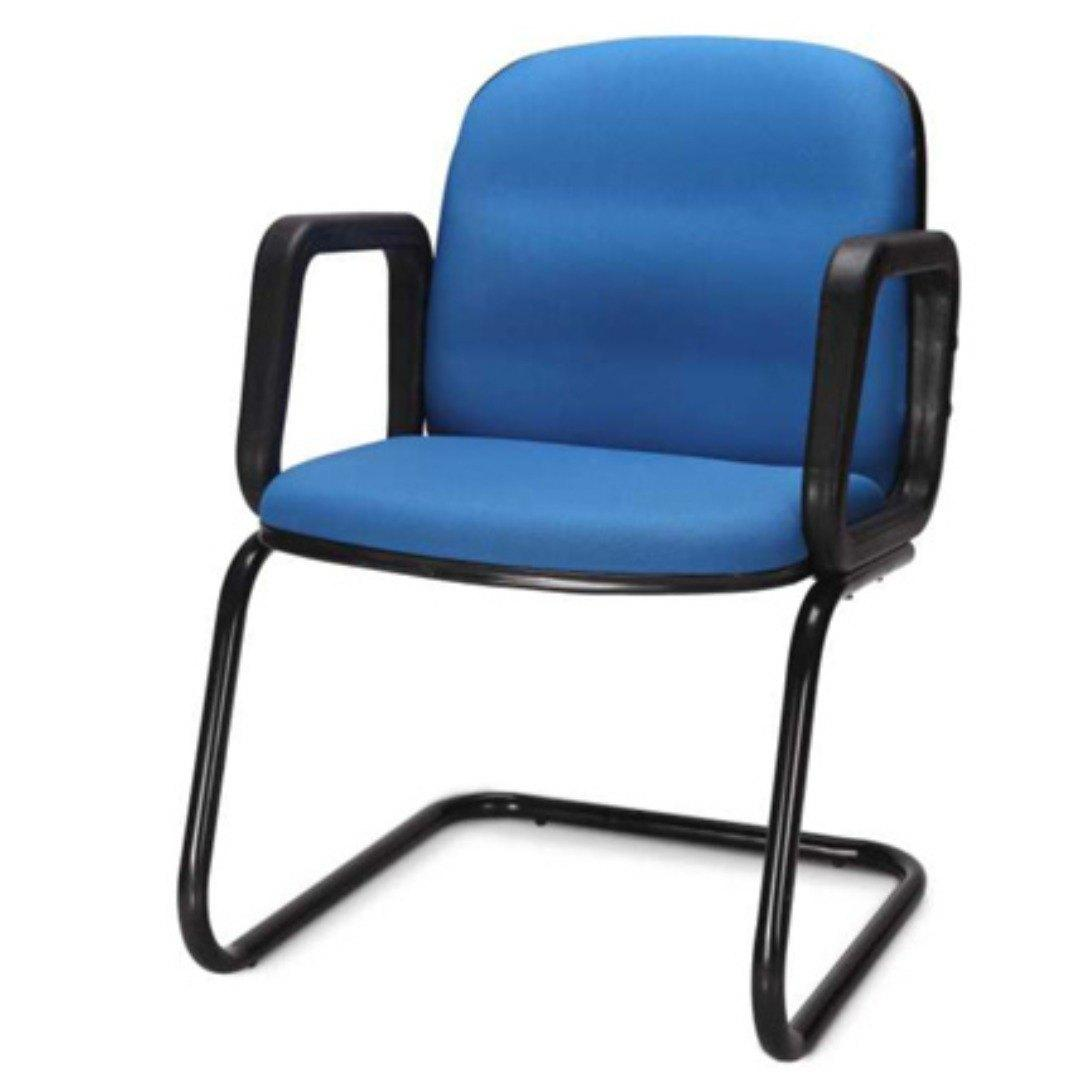chair: (161, 31, 972, 1068)
